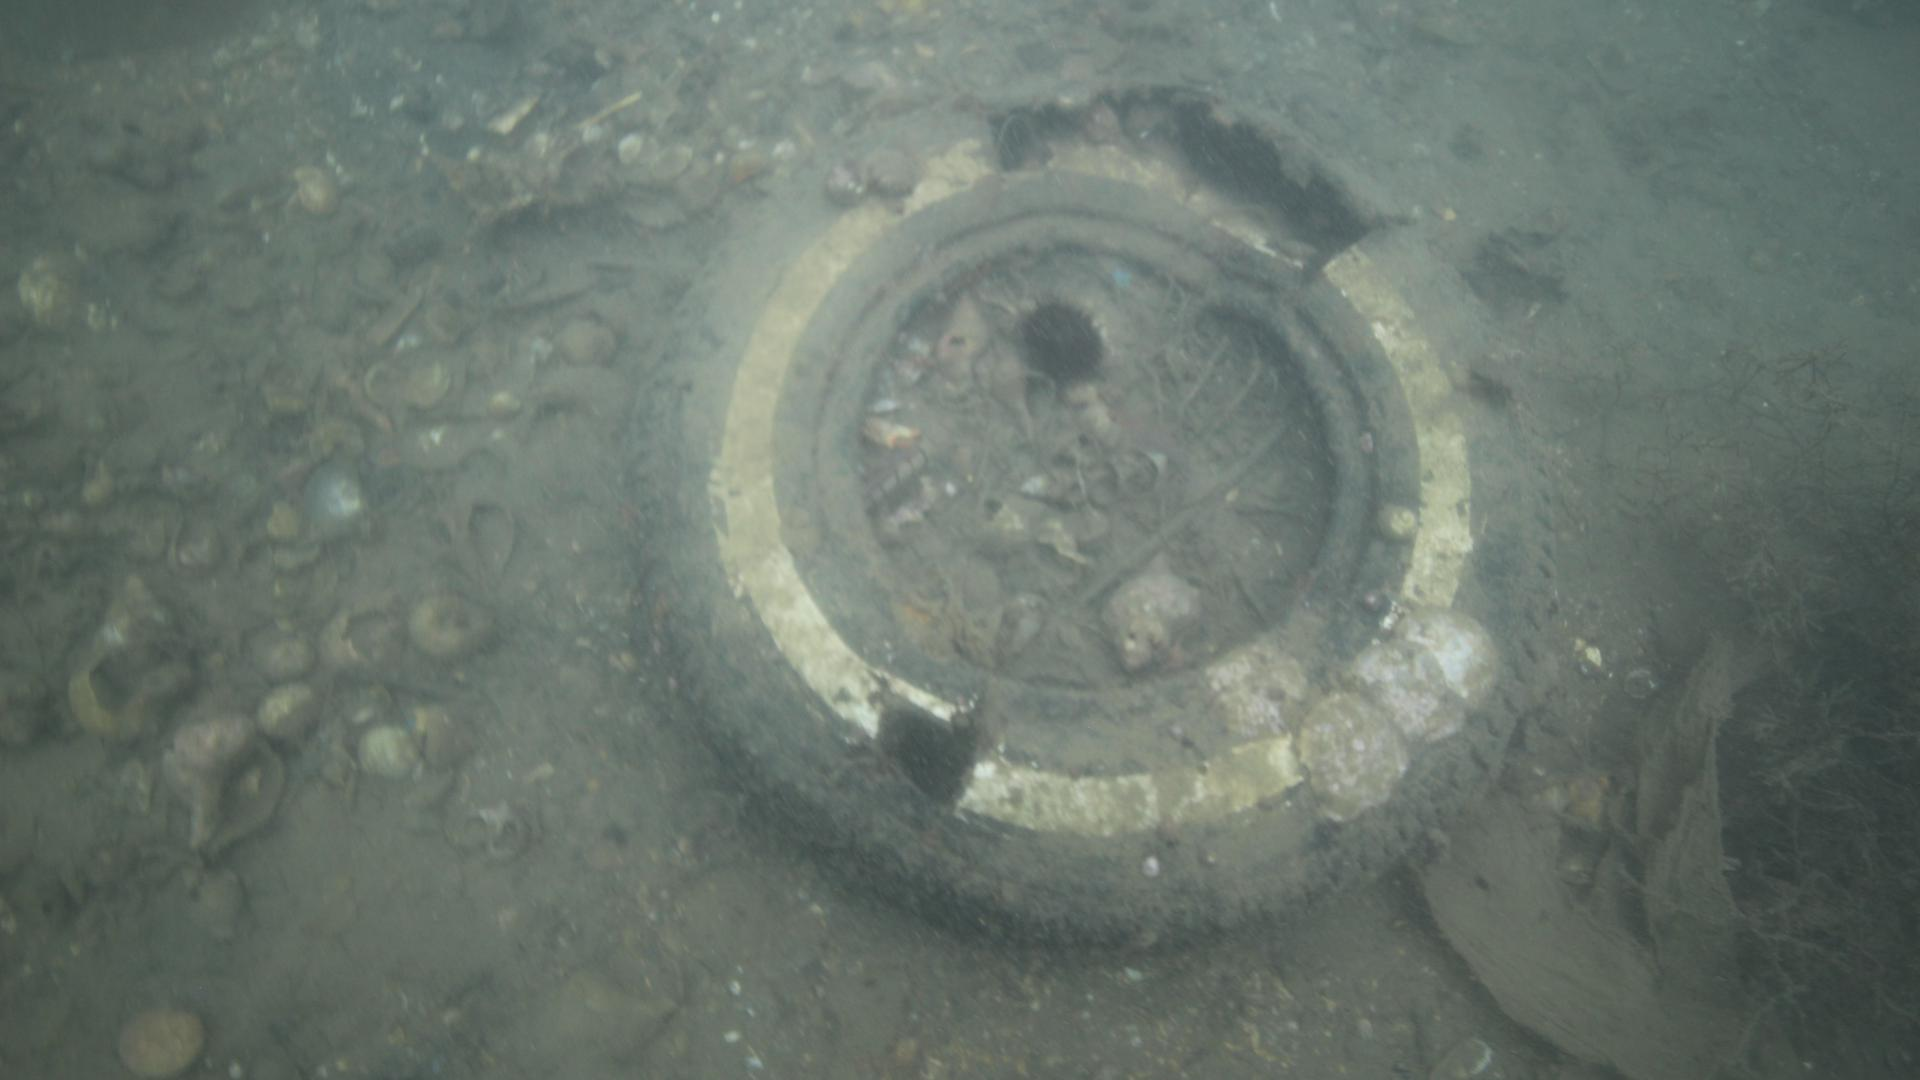tire: (622, 67, 1557, 949)
